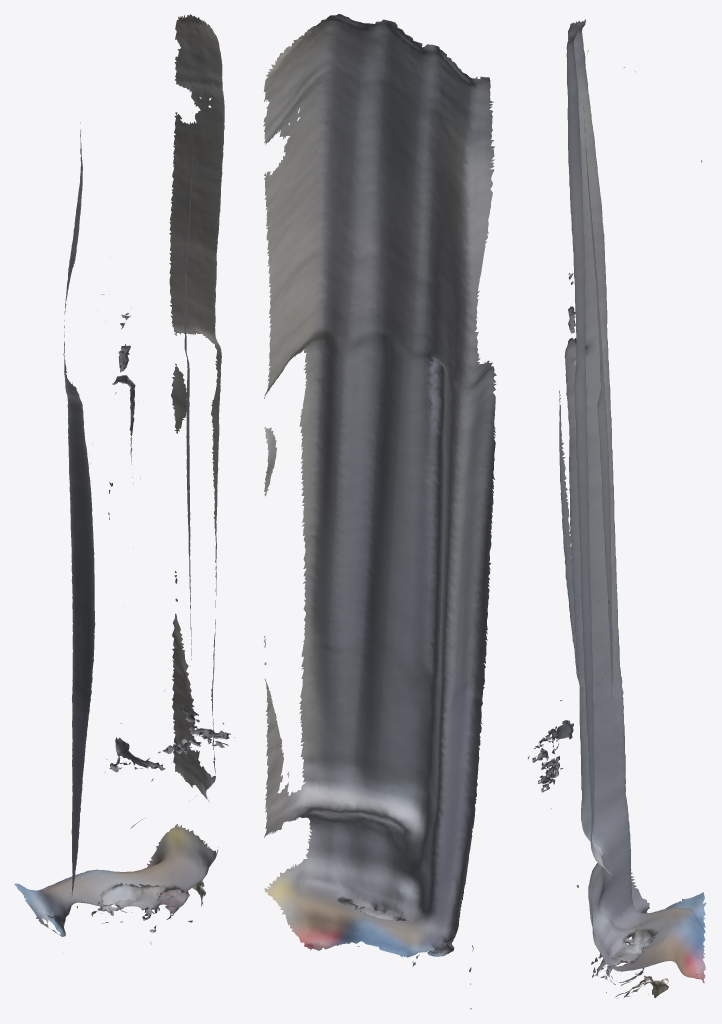
Rendered from apartment-full-115-428011d4acf4.glb.
3 views of the same model, side by side, from view 1: azimuth 30°, elevation 25°; view 2: azimuth 150°, elevation 25°; view 3: azimuth 270°, elevation 25° (orthographic). The views are drawn at different scales.
Size of the model in its own units: 0.438 by 2.42 by 0.393.
